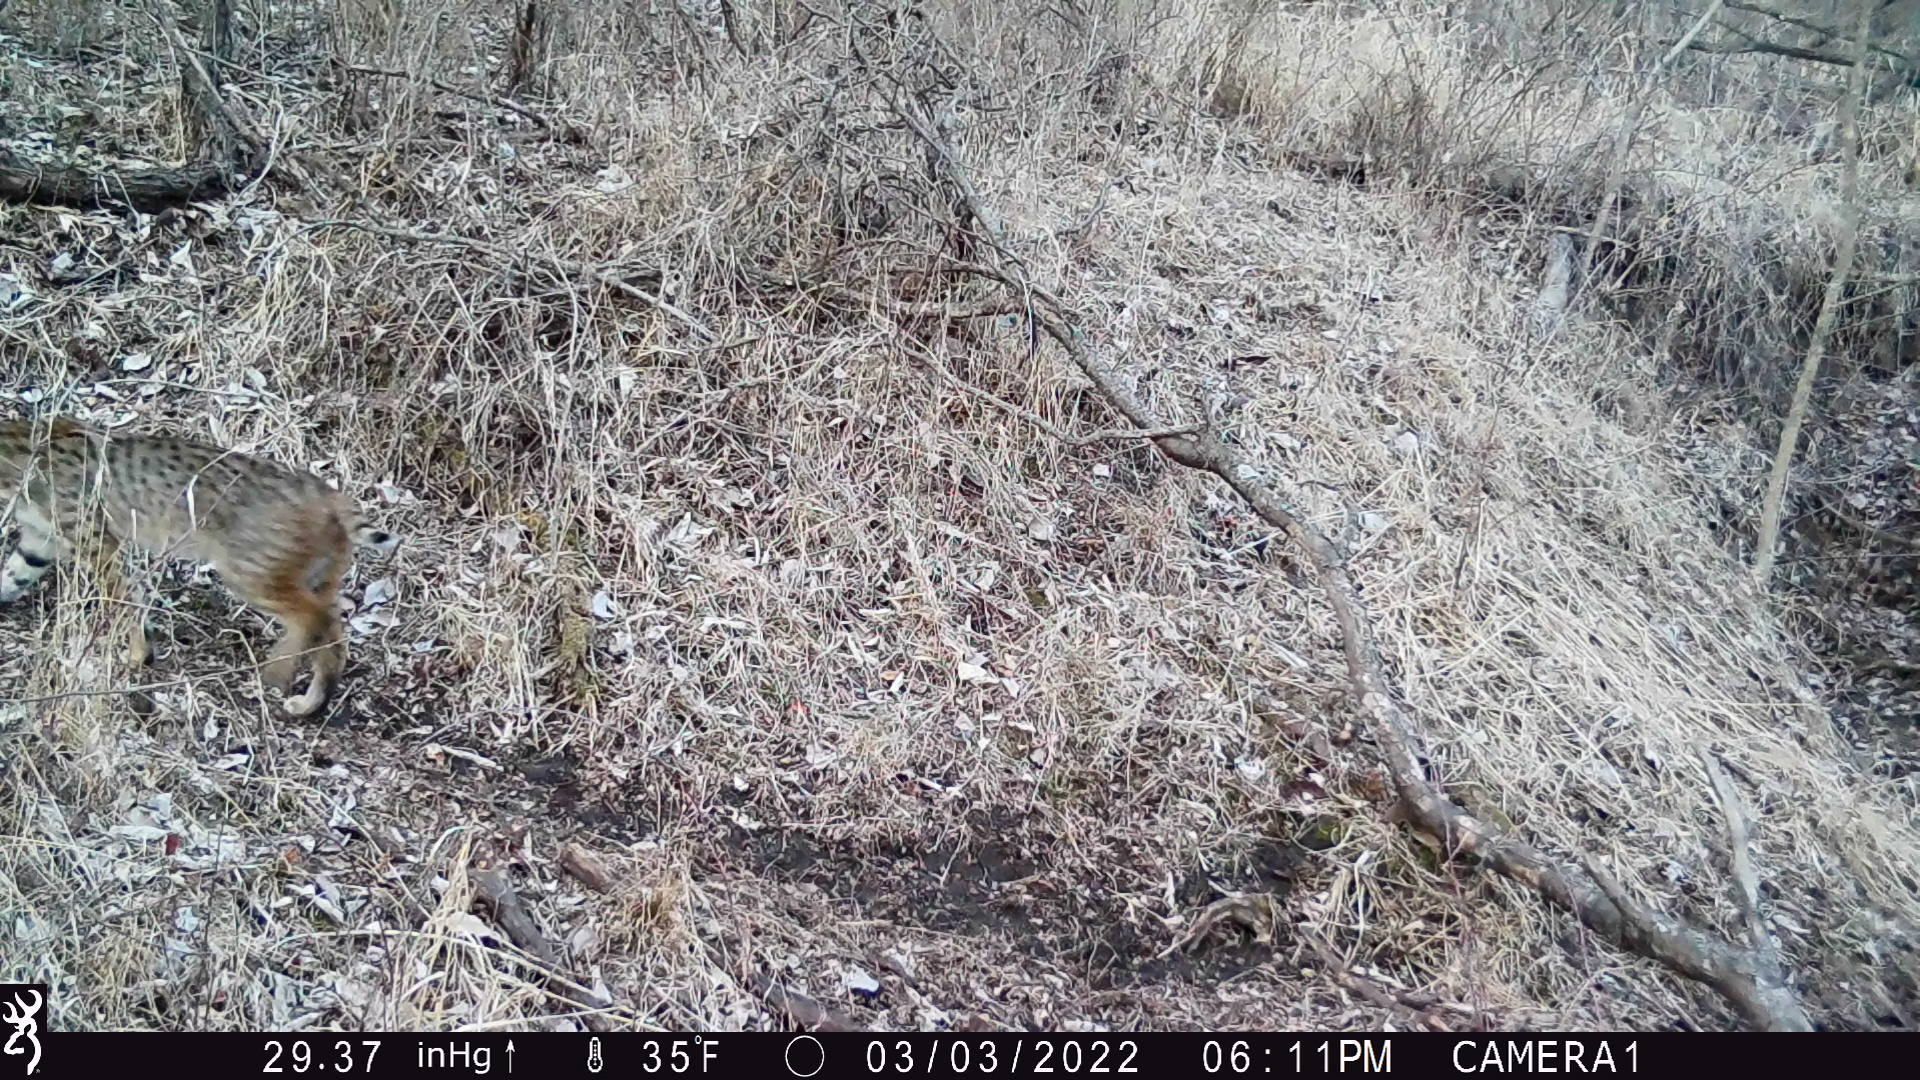Bobcat: (1, 392, 363, 715)
